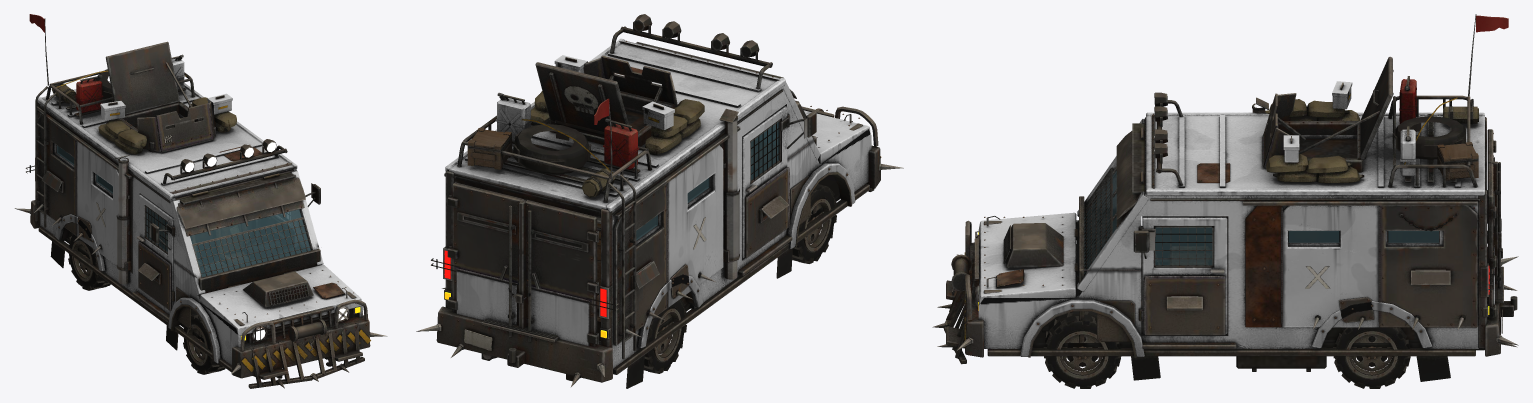
Rendered from e_van.glb.
3 views of the same model, side by side, from view 1: azimuth 30°, elevation 25°; view 2: azimuth 150°, elevation 25°; view 3: azimuth 270°, elevation 25° (orthographic). The views are drawn at different scales.
Visible parts, largest first — view 1: body, panel_armor_R, panel_bumper_F, panel_hood, panel_door_R, wheel_FR, wheel_RR, panel_door_L, panel_fender_R; view 2: body, panel_tailgate, panel_armor_R, panel_bumper_R, panel_door_R, wheel_FR, wheel_RR, panel_hood, panel_fender_R, panel_bumper_F; view 3: body, panel_armor_L, panel_door_L, panel_hood, panel_bumper_F, wheel_FL, wheel_RL, panel_tailgate, panel_fender_L, panel_bumper_R, panel_door_R.
Boxes of the visible parts, x1,y1,x2,y2 form: body: (25,14,362,378); panel_armor_R: (34,109,131,265); panel_bumper_F: (231,299,387,388); panel_hood: (200,264,361,335); panel_door_R: (136,194,174,310); wheel_FR: (183,313,225,374); wheel_RR: (68,233,110,290); panel_door_L: (261,183,320,249); panel_fender_R: (168,297,220,363); body: (431,14,871,388); panel_tailgate: (447,182,598,346); panel_armor_R: (614,126,740,345); panel_bumper_R: (416,306,612,386); panel_door_R: (742,106,816,258); wheel_FR: (792,184,836,263); wheel_RR: (643,299,686,373); panel_hood: (795,100,870,163); panel_fender_R: (787,162,855,249); panel_bumper_F: (801,106,903,191); body: (975,14,1508,381); panel_armor_L: (1242,201,1477,329); panel_door_L: (1133,216,1227,335); panel_hood: (979,212,1078,304); panel_bumper_F: (932,220,983,364); wheel_FL: (1043,311,1121,388); wheel_RL: (1333,327,1410,388); panel_tailgate: (1487,129,1502,319); panel_fender_L: (1020,299,1144,357); panel_bumper_R: (1485,246,1518,356); panel_door_R: (1142,216,1216,257).
Bounding box in the file's own units: 2.65 × 3.68 × 6.48.
12 materials, 8 textured.
